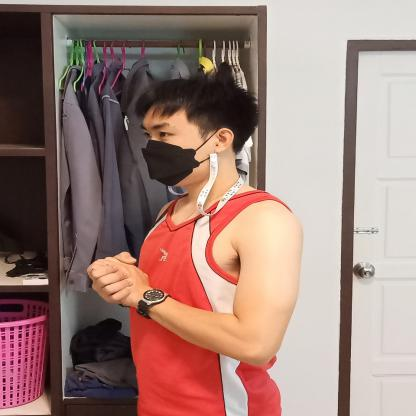Grieve: (77, 250, 191, 332)
